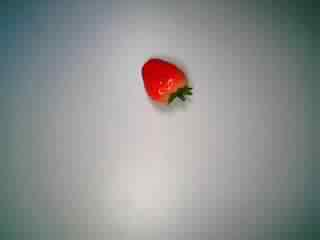strawberry: (133, 54, 201, 118)
